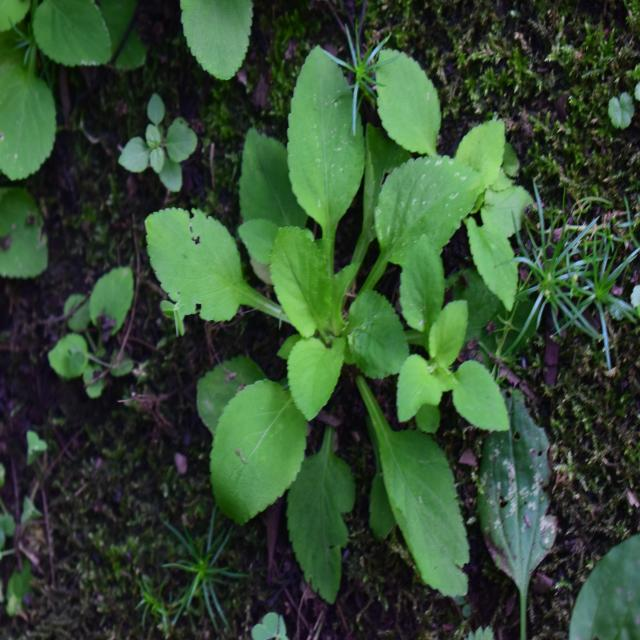Viola: (162, 68, 506, 562)
